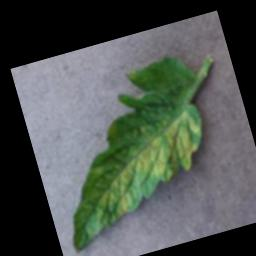Leaf_Mold: (70, 105, 218, 227)
